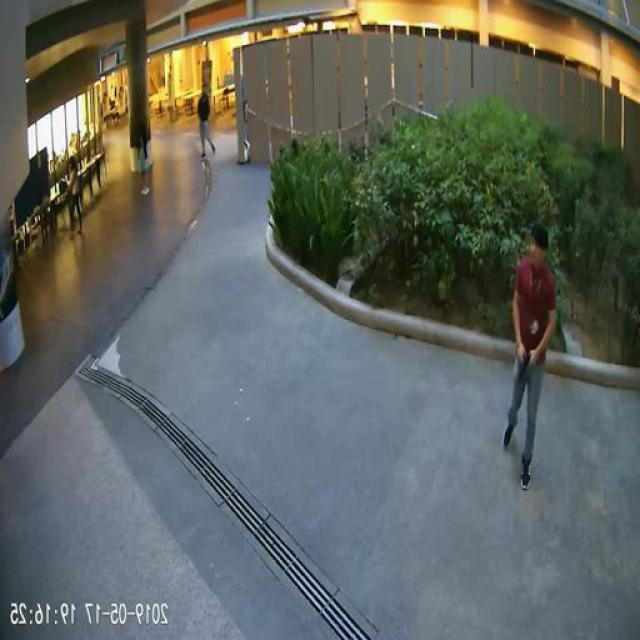weapon: (516, 352, 533, 384)
